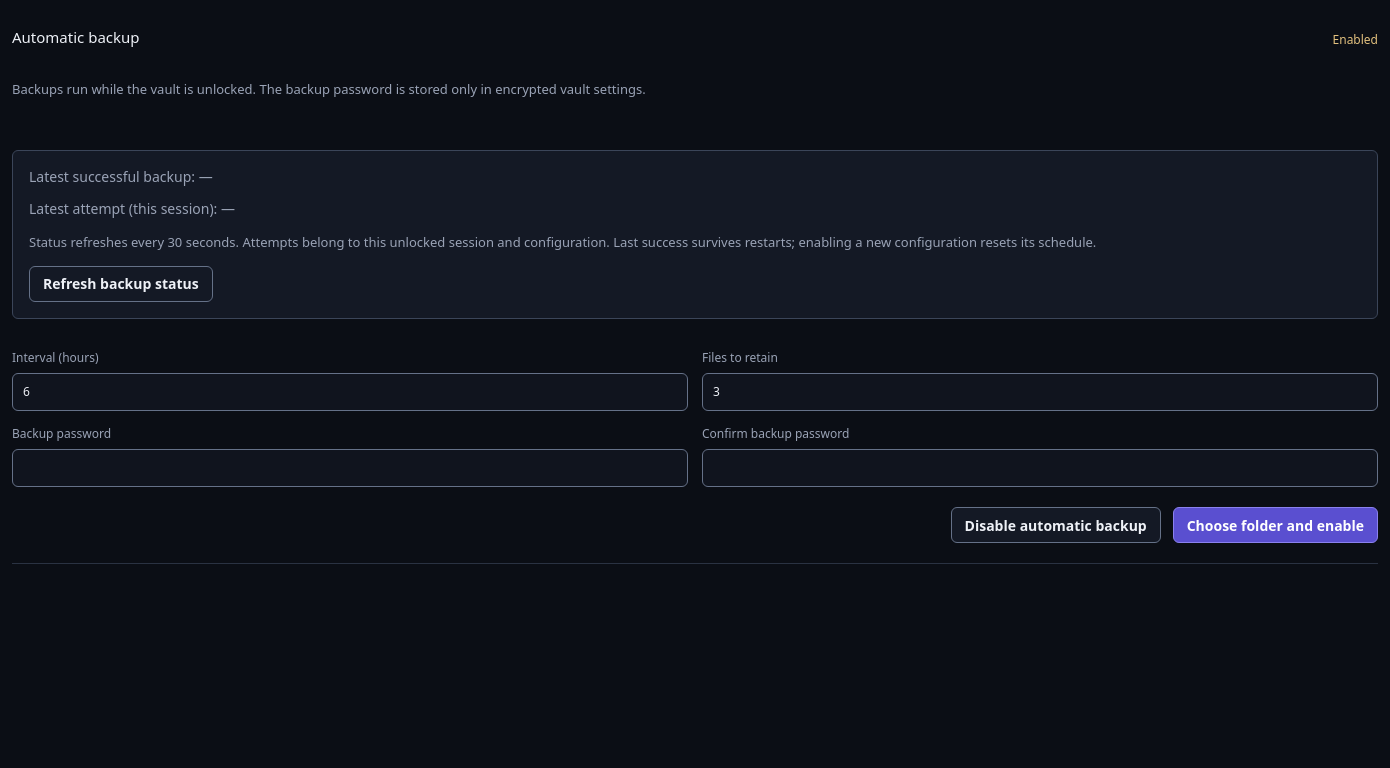
Test case: automatic backup settings › refreshes failure and recovery without overwriting drafts or passwords
The image size is (1390, 768).
Replace the text in the number field labelled "Interval (hours)" with "12" at (350, 392), box [12,373,688,411]
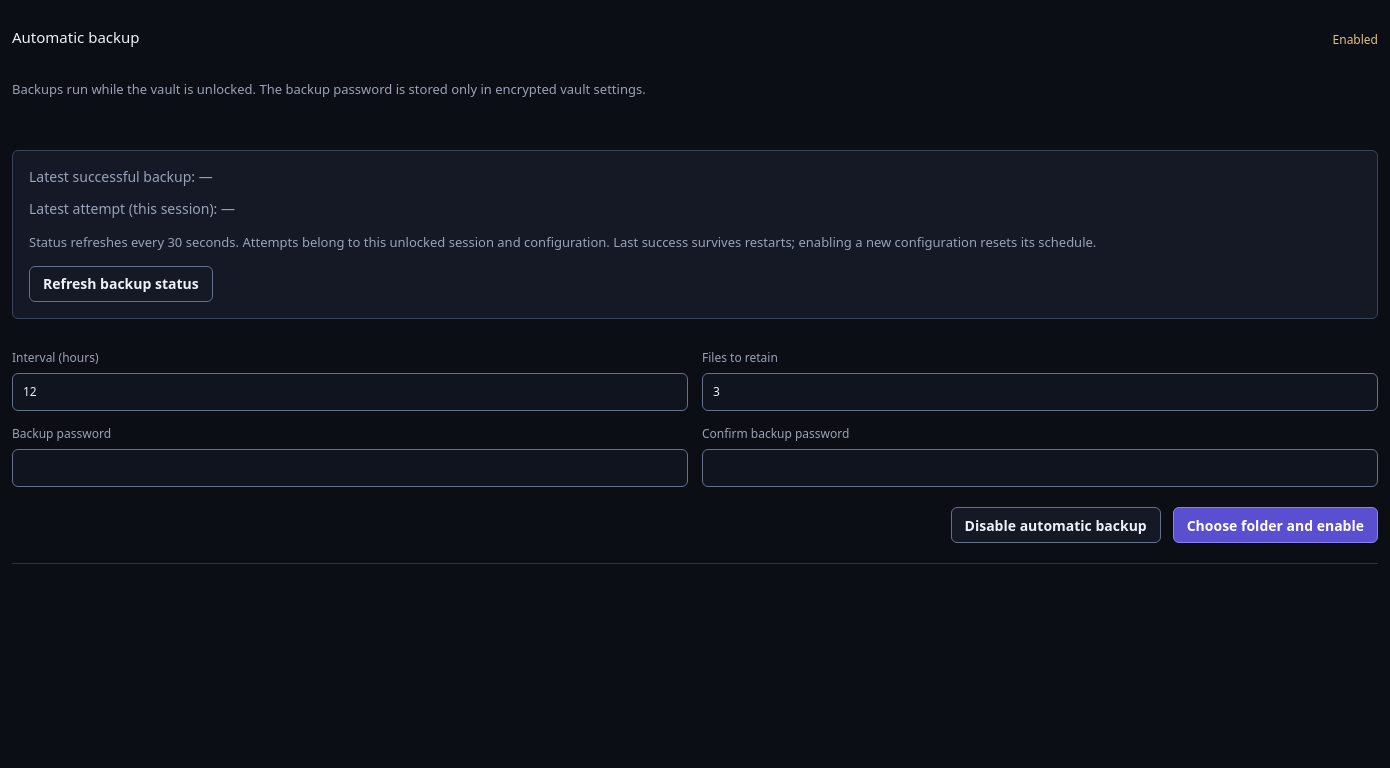
Type "unsaved-synthetic-password" into the password field labelled "Backup password" at (350, 468), box [12,449,688,487]
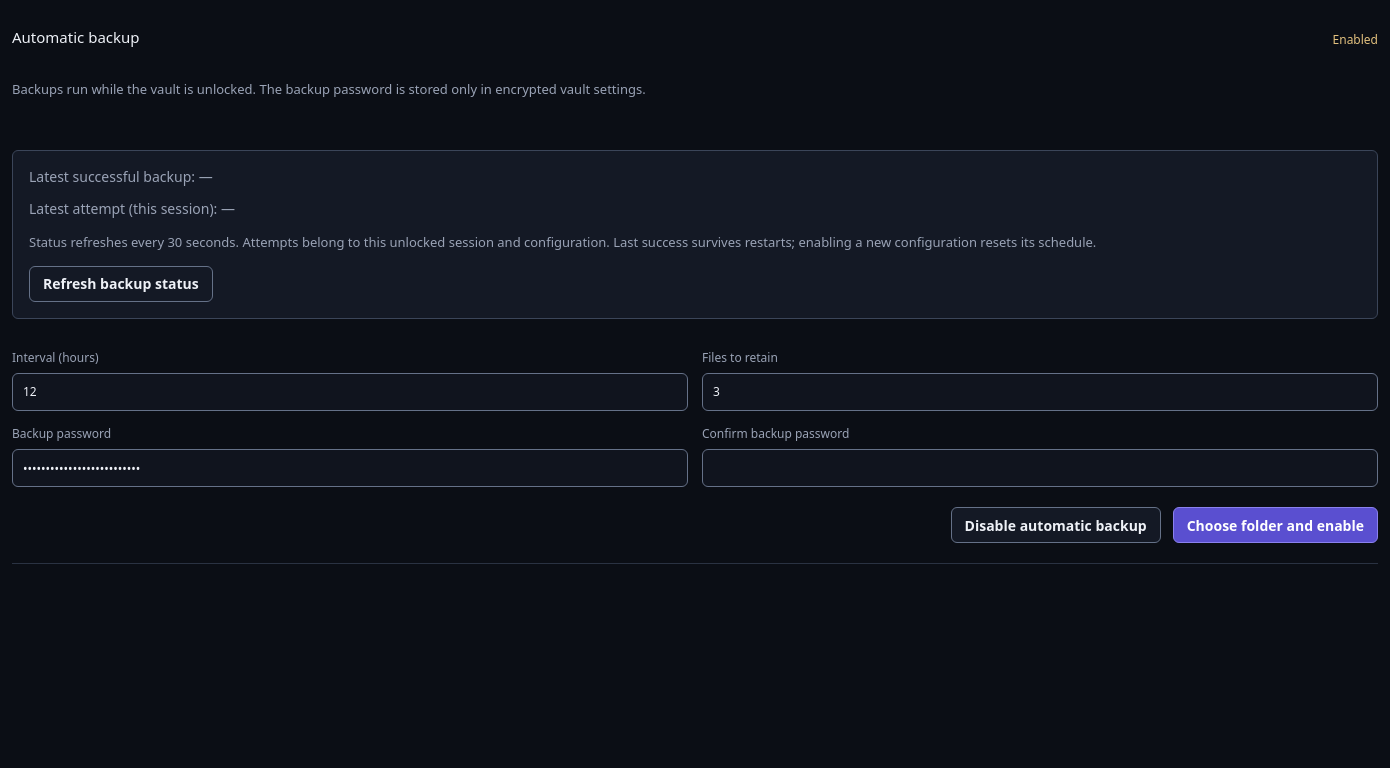
Click the button "Refresh backup status" at (121, 284), box [29,266,213,302]
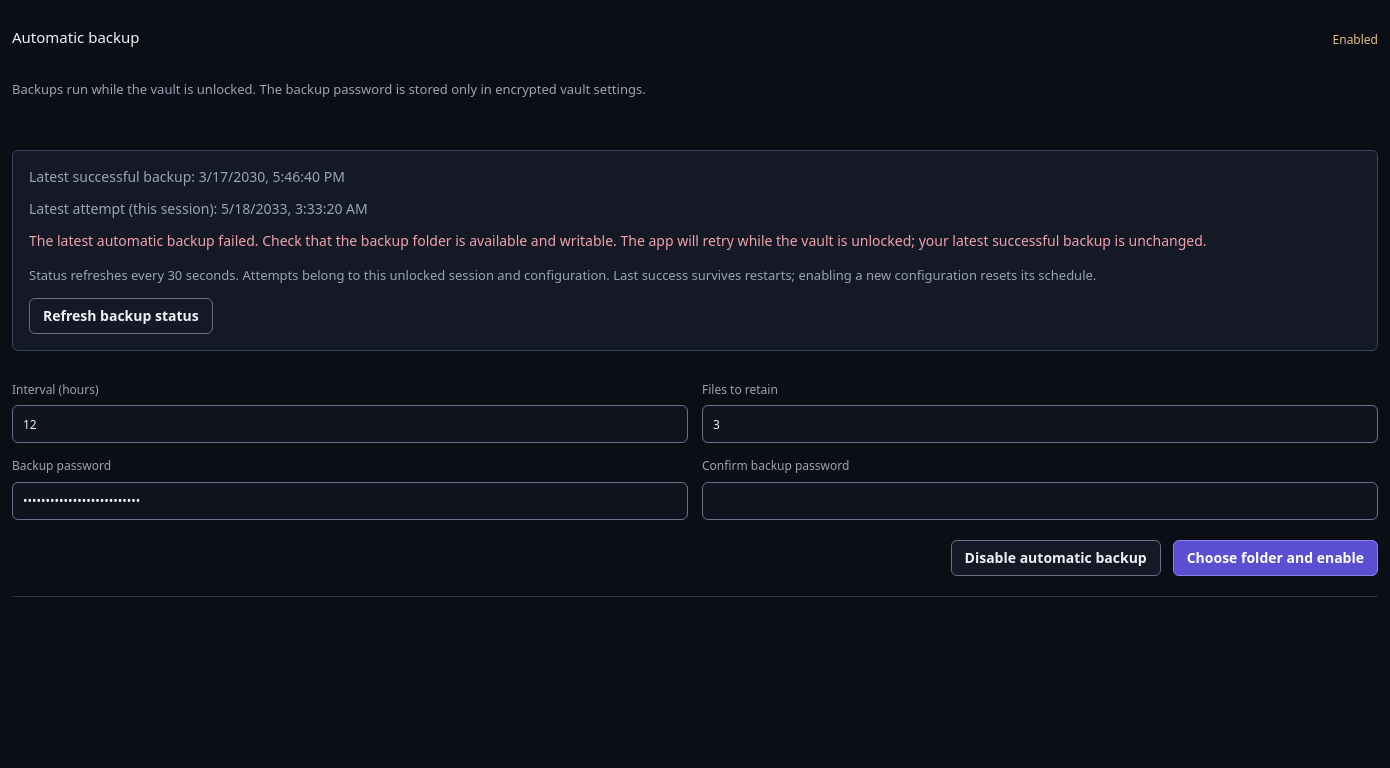
Result: the message shows "The latest automatic backup failed. Check that the backup folder is available and writable. The app will retry while the vault is unlocked; your latest successf" at [29,231,1206,250]
Click the button "Refresh backup status" at (121, 316), box [29,298,213,334]
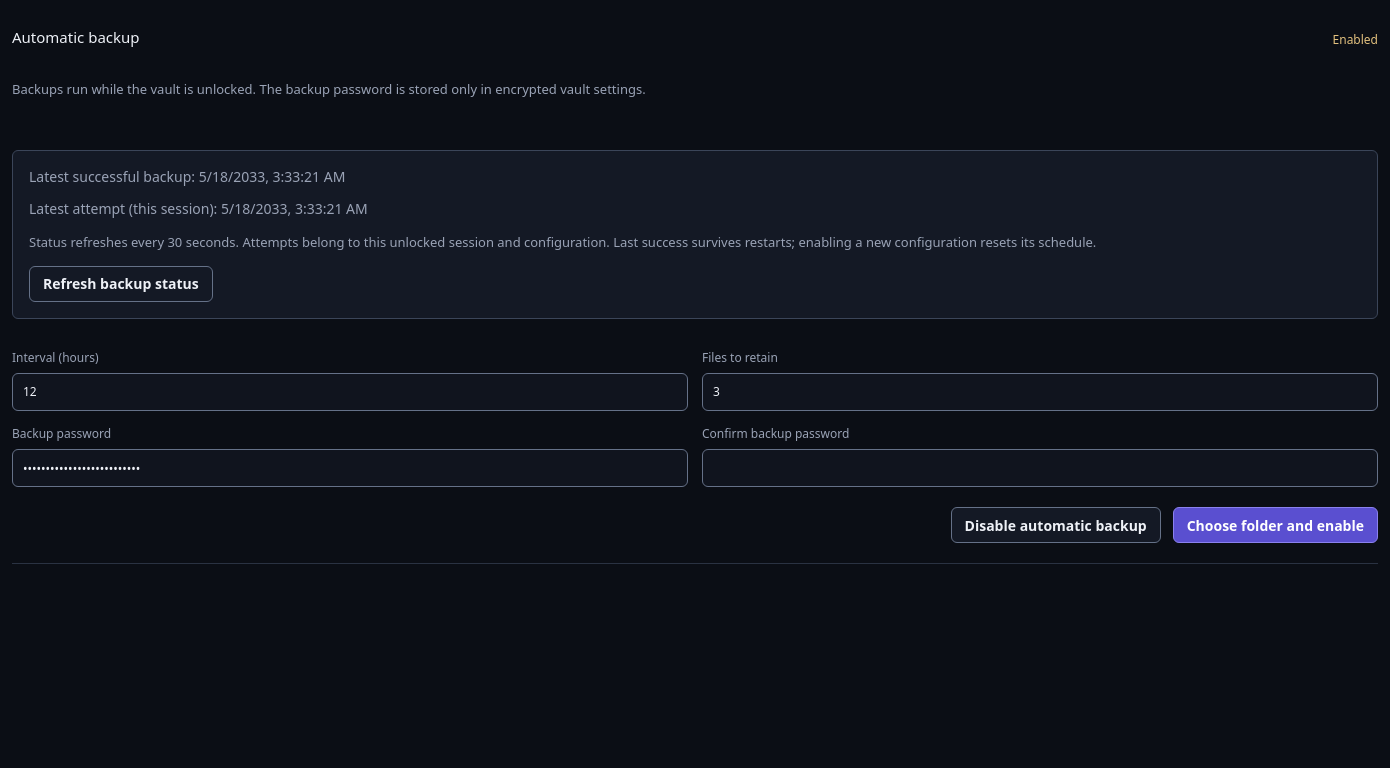
Result: the message is gone
